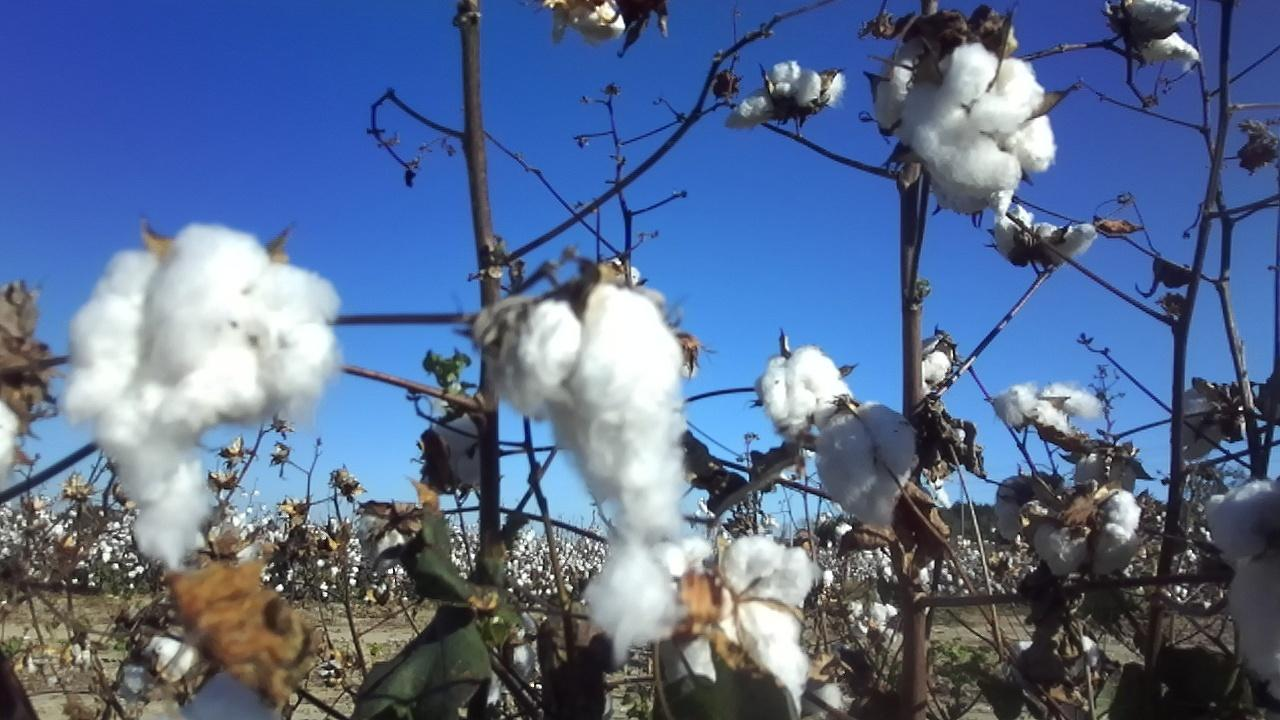cotton_ready: (64, 220, 344, 569), (499, 284, 680, 652), (654, 534, 815, 716), (904, 44, 1059, 204), (1212, 482, 1280, 675), (816, 404, 920, 530), (1030, 490, 1142, 582), (759, 344, 854, 438), (726, 61, 844, 129), (989, 205, 1099, 265), (992, 382, 1105, 438), (432, 400, 492, 495), (485, 604, 544, 700), (1126, 0, 1205, 67), (183, 677, 294, 720), (360, 505, 427, 575), (137, 614, 200, 682), (992, 472, 1045, 542), (1172, 394, 1225, 461), (1073, 447, 1139, 498), (877, 52, 917, 134), (548, 0, 629, 40), (912, 349, 952, 406), (804, 680, 856, 720), (0, 405, 22, 474)
